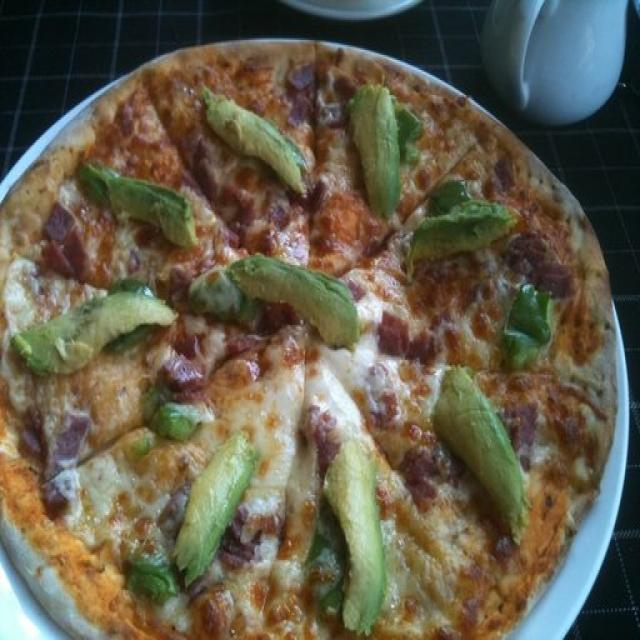Ham: (33, 404, 90, 511), (513, 236, 582, 300), (287, 86, 349, 130), (224, 503, 265, 569), (237, 309, 289, 358), (404, 443, 440, 503), (368, 365, 393, 439), (212, 214, 250, 260), (46, 204, 76, 255), (376, 315, 410, 357), (168, 346, 200, 387), (311, 410, 336, 462), (408, 330, 442, 367), (195, 143, 219, 194), (160, 492, 190, 530), (166, 257, 196, 294), (187, 580, 212, 612), (496, 157, 518, 188), (346, 270, 367, 301), (286, 69, 322, 87), (275, 205, 285, 221)
Pizza: (0, 42, 615, 633)
